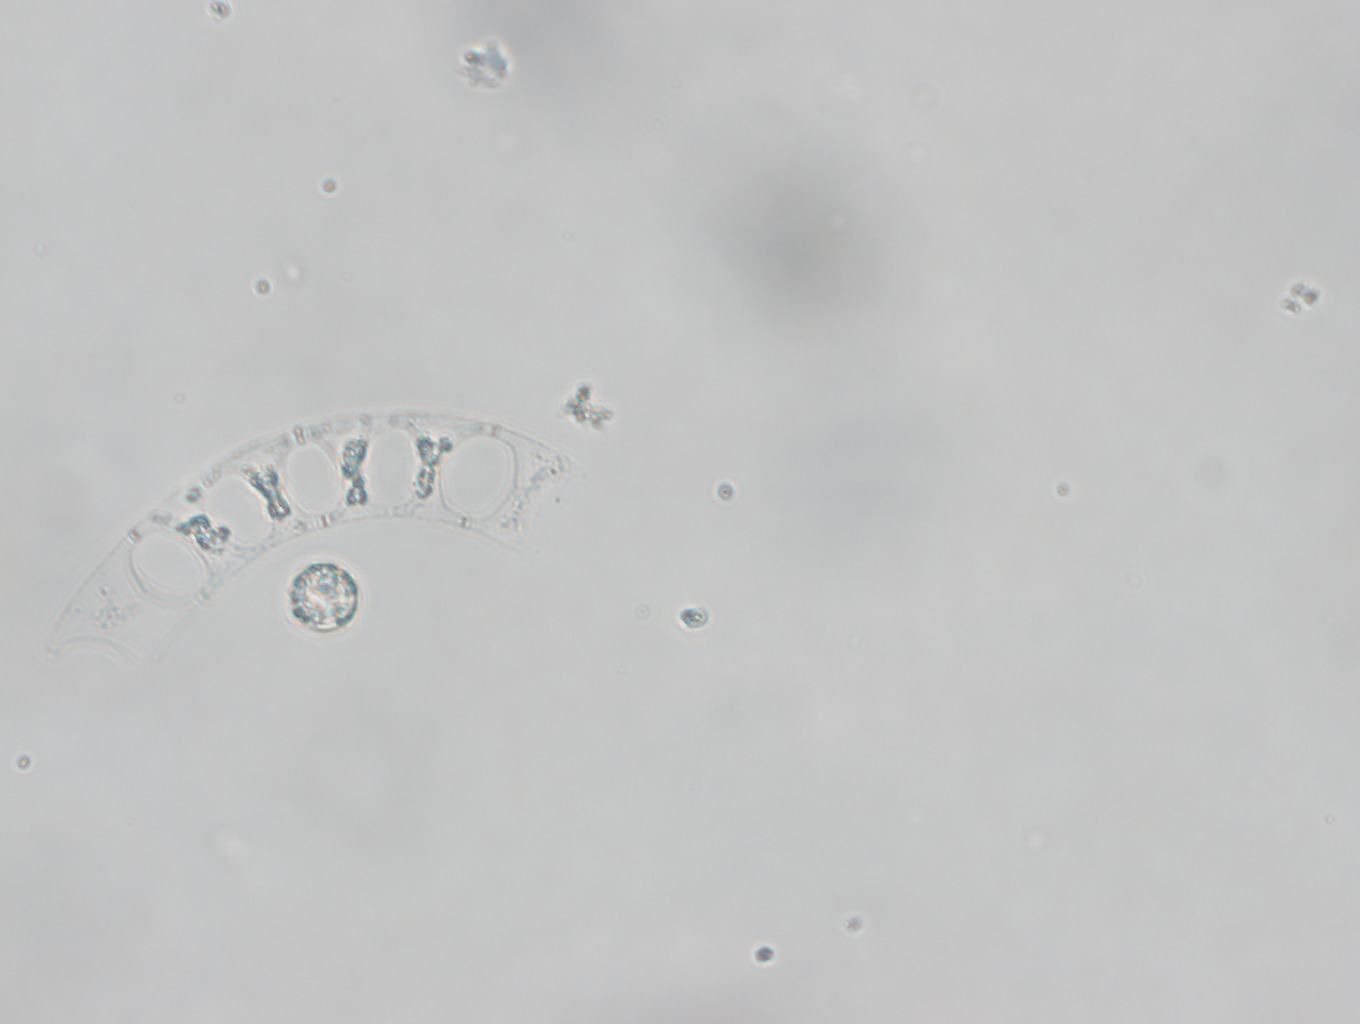eucampia: (48, 408, 576, 681)
